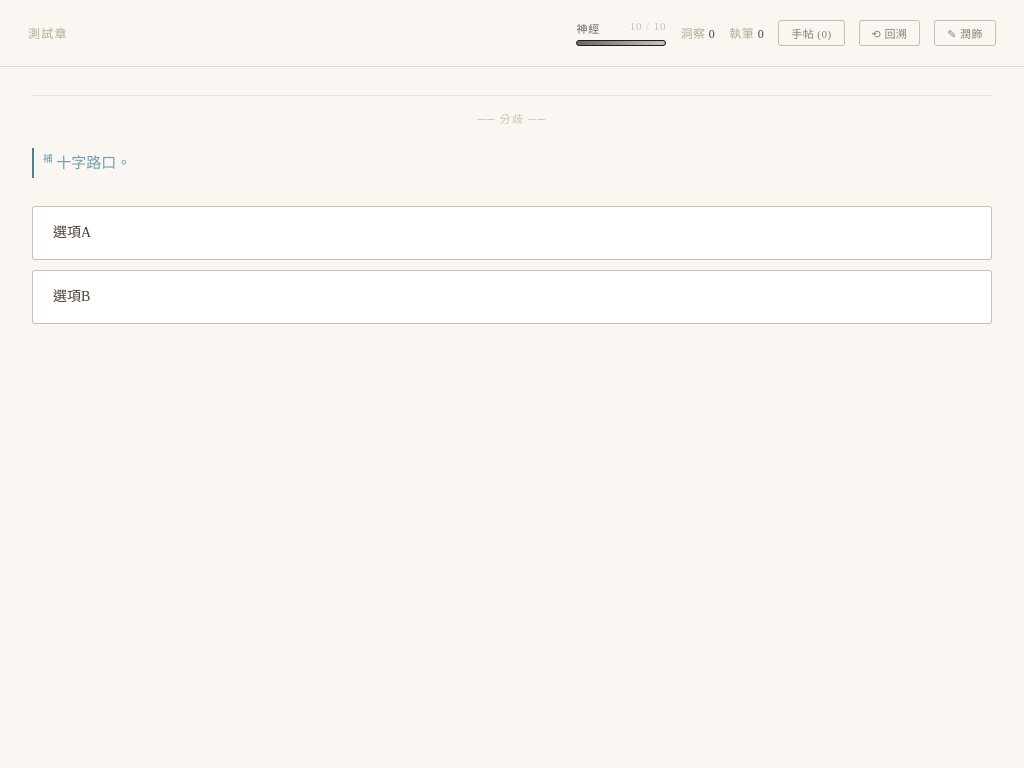
Test case: HagurumaEngine — 選項回溯 › 回溯面板列出該選擇點＋所選文字（場景段落標籤取自 links.fold）
Click the button "選項A": (72, 232) [32,206,992,260]
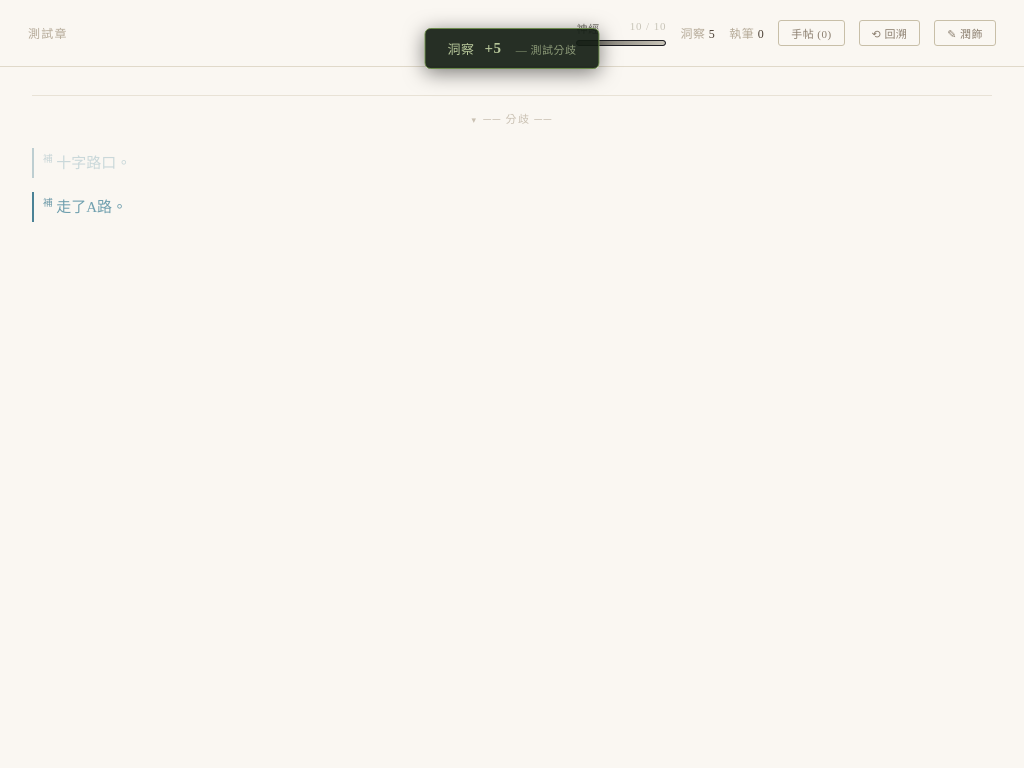
Result: the text "走了A路。" is shown at [32,192,992,222]
Click the button "⟲ 回溯": (889, 33) [858,20,920,46]
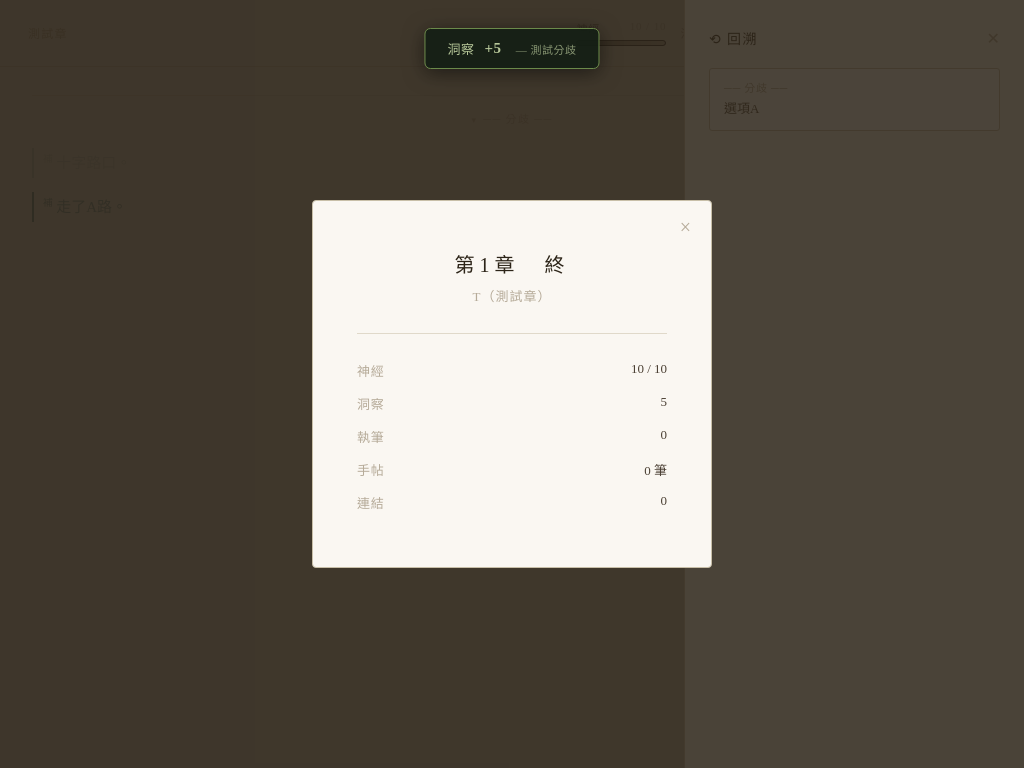
Result: the text "選項A" is shown at [724,99,759,120]
